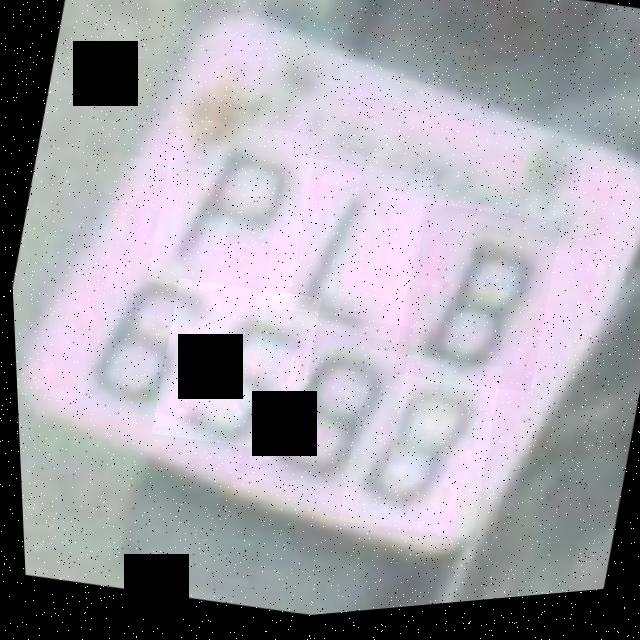5: (142, 272, 323, 468)
6: (45, 232, 230, 439)
8: (326, 346, 504, 557)
9: (226, 301, 415, 510)
B: (383, 201, 565, 412)
J: (248, 149, 436, 359)
P: (138, 109, 322, 316)
